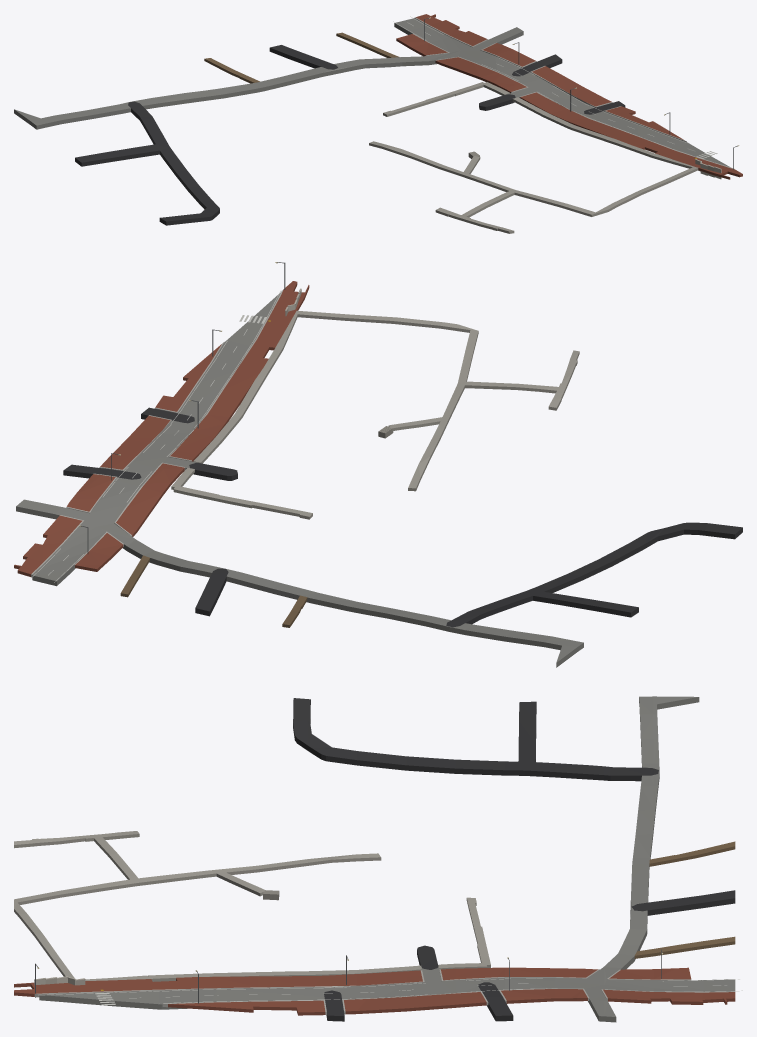
The picture shows the model from 3 angles, top to bottom: view 1: azimuth 30°, elevation 25°; view 2: azimuth 150°, elevation 25°; view 3: azimuth 270°, elevation 25°; orthographic projection. The views are drawn at different scales.
Bounding box in the file's own units: 149 × 15.74 × 147.
